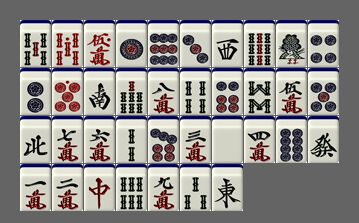0m: (84, 20, 115, 67)
0p: (52, 68, 83, 115)
0s: (52, 20, 83, 67)
1m: (20, 164, 51, 211)
1p: (116, 20, 147, 67)
1s: (276, 20, 307, 67)
1z: (212, 164, 243, 211)
2m: (52, 164, 83, 211)
2p: (20, 68, 51, 115)
2s: (116, 116, 147, 163)
2z: (84, 68, 115, 115)
3m: (180, 116, 211, 163)
3p: (180, 20, 211, 67)
3s: (180, 164, 211, 211)
3z: (212, 20, 243, 67)
4m: (244, 116, 275, 163)
4p: (308, 20, 339, 67)
4s: (180, 68, 211, 115)
4z: (20, 116, 51, 163)
5m: (276, 68, 307, 115)
5p: (308, 68, 339, 115)
5s: (20, 20, 51, 67)
5z: (212, 116, 243, 163)
6m: (84, 116, 115, 163)
6p: (212, 68, 243, 115)
6s: (116, 164, 147, 211)
6z: (308, 116, 339, 163)
7m: (52, 116, 83, 163)
7p: (148, 116, 179, 163)
7s: (116, 68, 147, 115)
7z: (84, 164, 115, 211)
8m: (148, 68, 179, 115)
8p: (276, 116, 307, 163)
8s: (244, 68, 275, 115)
9m: (148, 164, 179, 211)
9p: (148, 20, 179, 67)
9s: (244, 20, 275, 67)
